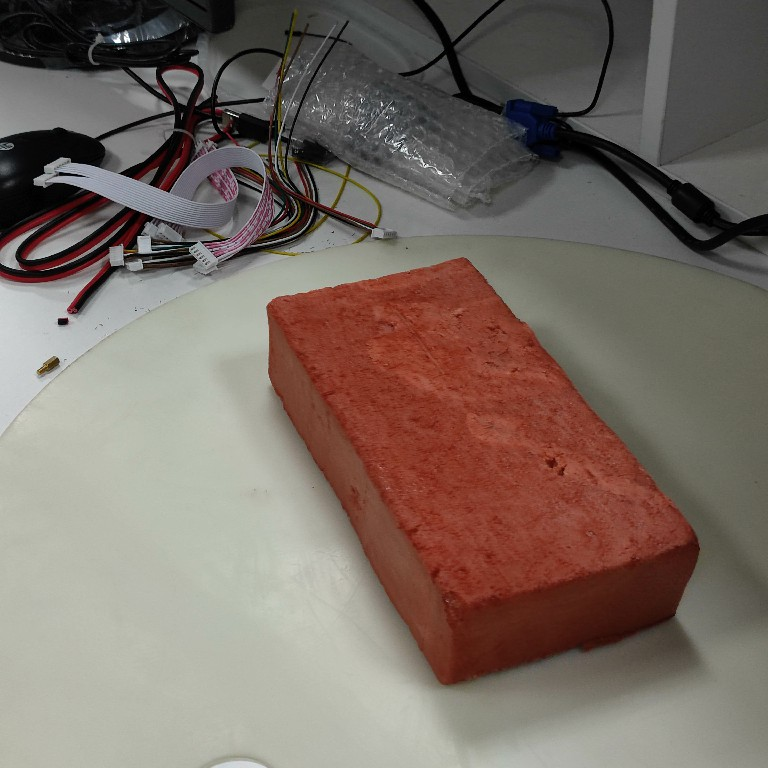brick: (265, 254, 703, 690)
